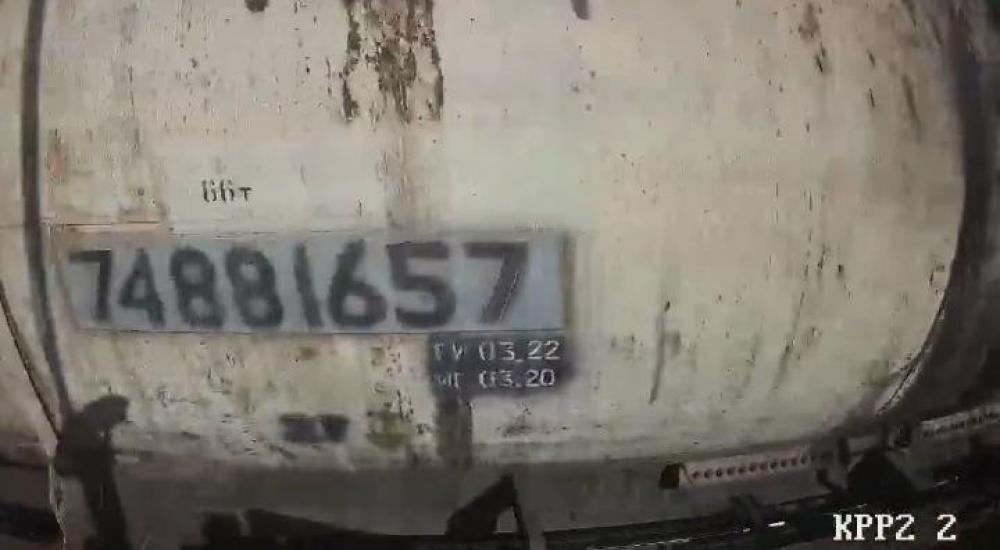Wagon-number: (60, 227, 533, 331)
